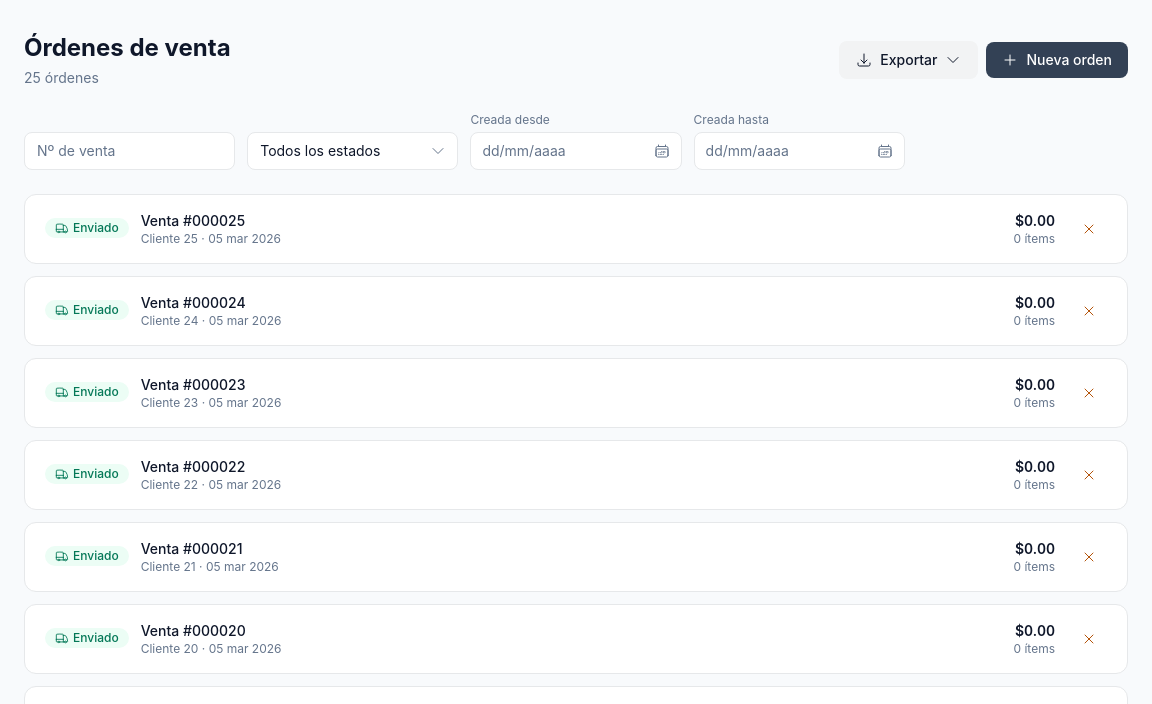
SaleOrdersPage — paginación y filtros (T6-01) › sin resultados no dice «crea la primera», y los filtros siguen ahí para deshacerlo
Select "Cancelado" in the dropdown named "Estado". click: (353, 151)
box: [247, 132, 458, 170]
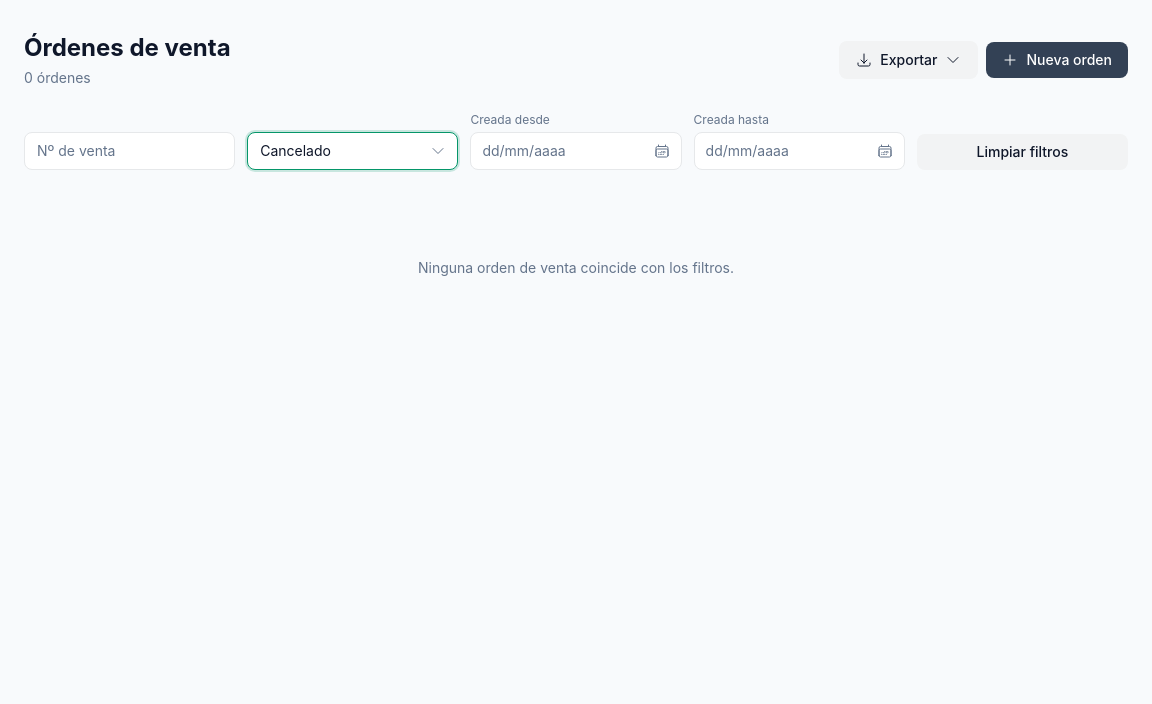
Now the text "Ninguna orden de venta coincide con los filtros." is shown, box [418, 259, 734, 276]
Now the text "0 órdenes" is shown, box [24, 69, 91, 86]
Click the button "Limpiar filtros". click: click(1022, 152)
box: [917, 134, 1128, 170]
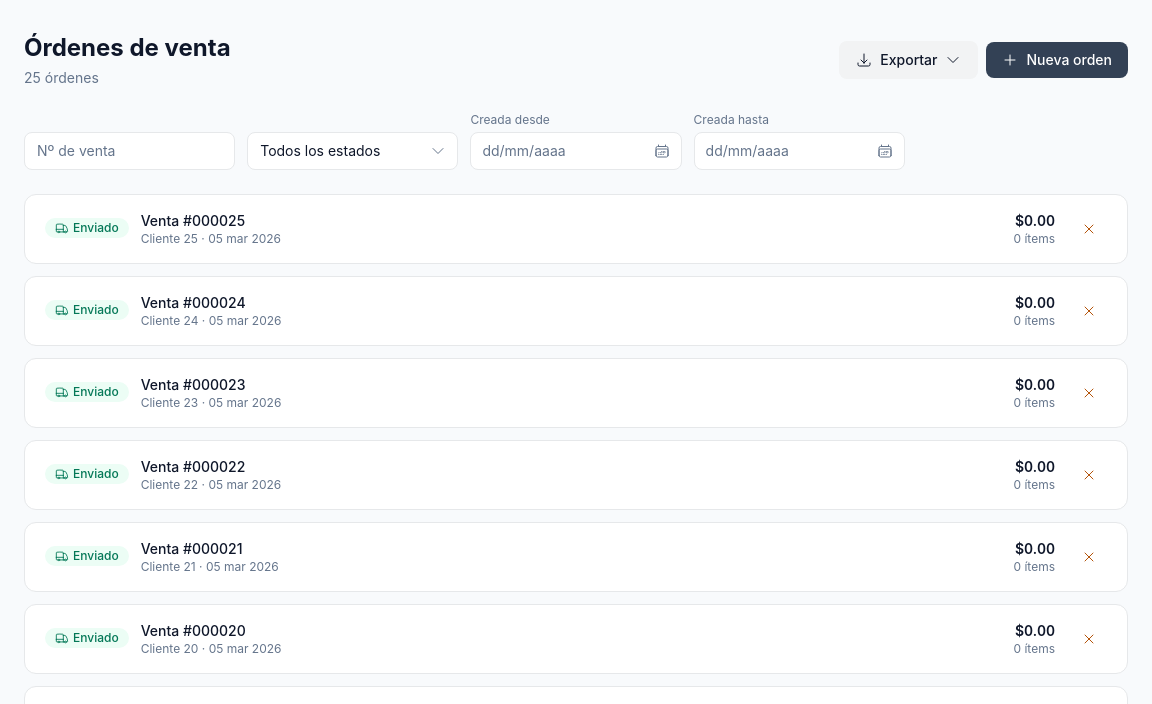
Now the text "25 órdenes" is shown, box [24, 69, 99, 86]
Now the button "Limpiar filtros" is gone
